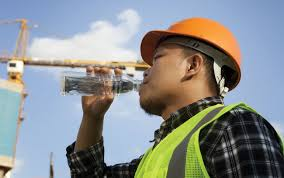hard hat: (138, 17, 242, 91)
high-vis: (134, 102, 257, 175)
